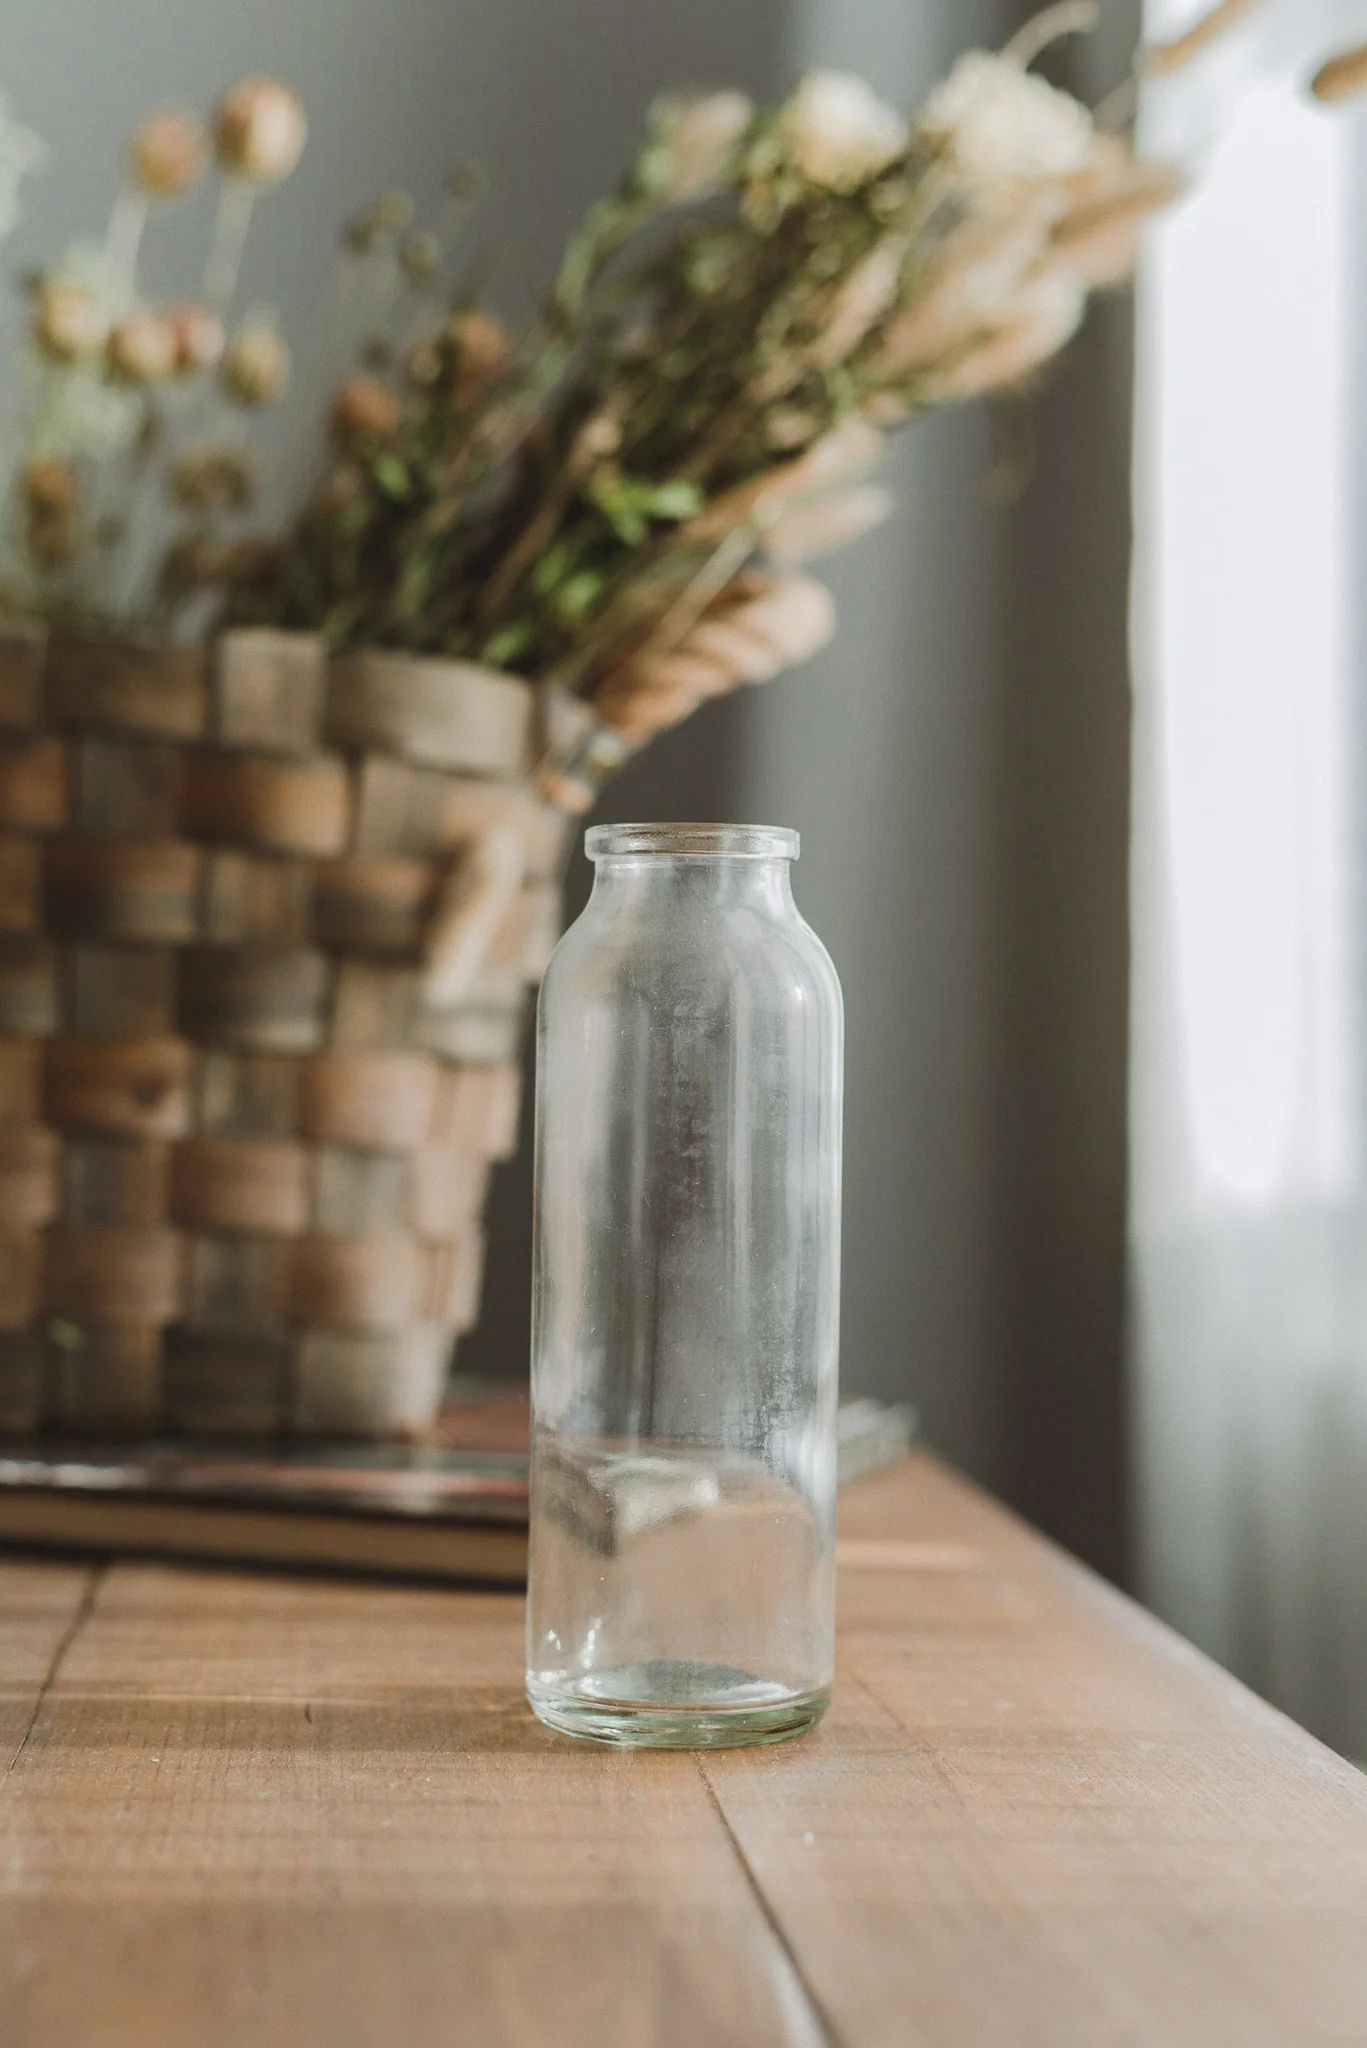glass_bottle: (490, 788, 897, 1783)
